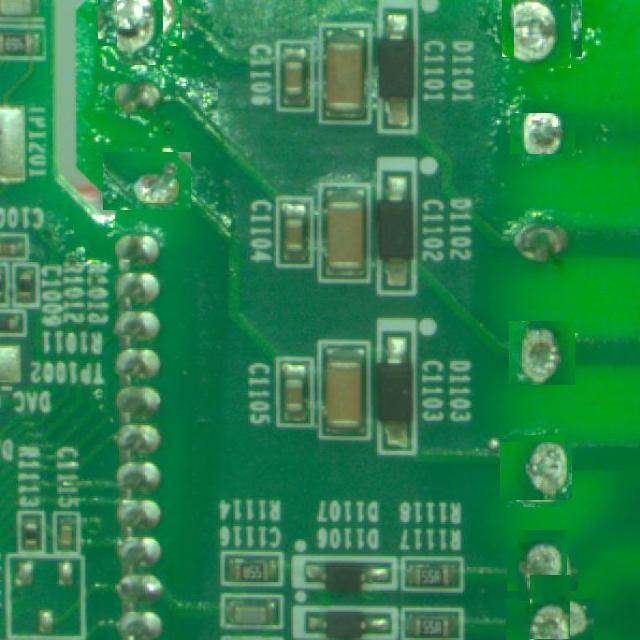lack_of_part: (103, 152, 191, 210), (510, 320, 575, 386), (504, 438, 569, 504), (508, 0, 576, 62), (512, 536, 573, 596), (107, 0, 172, 55), (517, 587, 582, 640), (516, 107, 569, 160)
